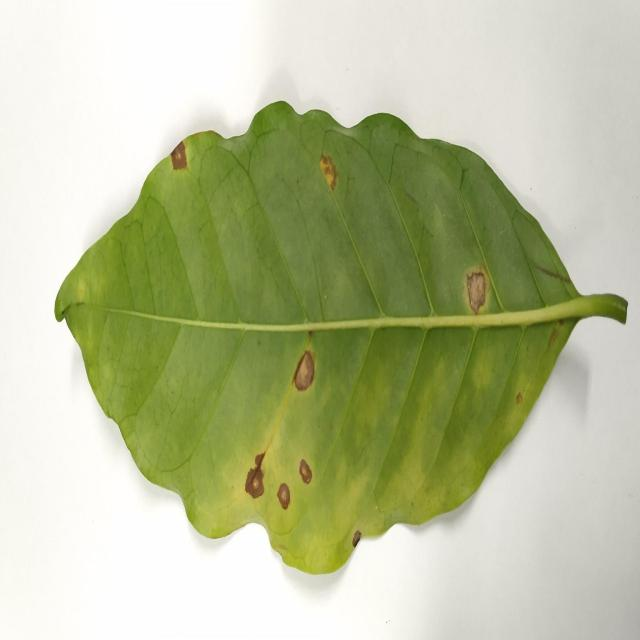Enfermedad-Mancha-de-hierro: (52, 102, 629, 579)
